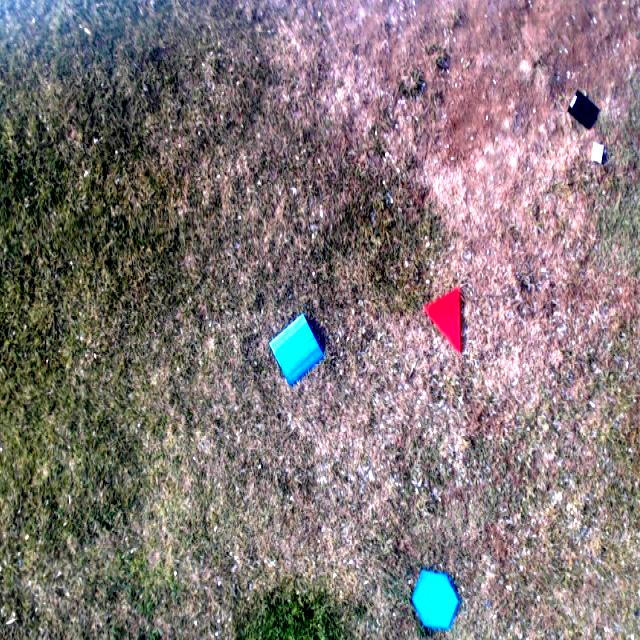blue_hexagon: (411, 570, 459, 631)
blue_square: (270, 313, 323, 387)
red_triangle: (424, 289, 462, 352)
